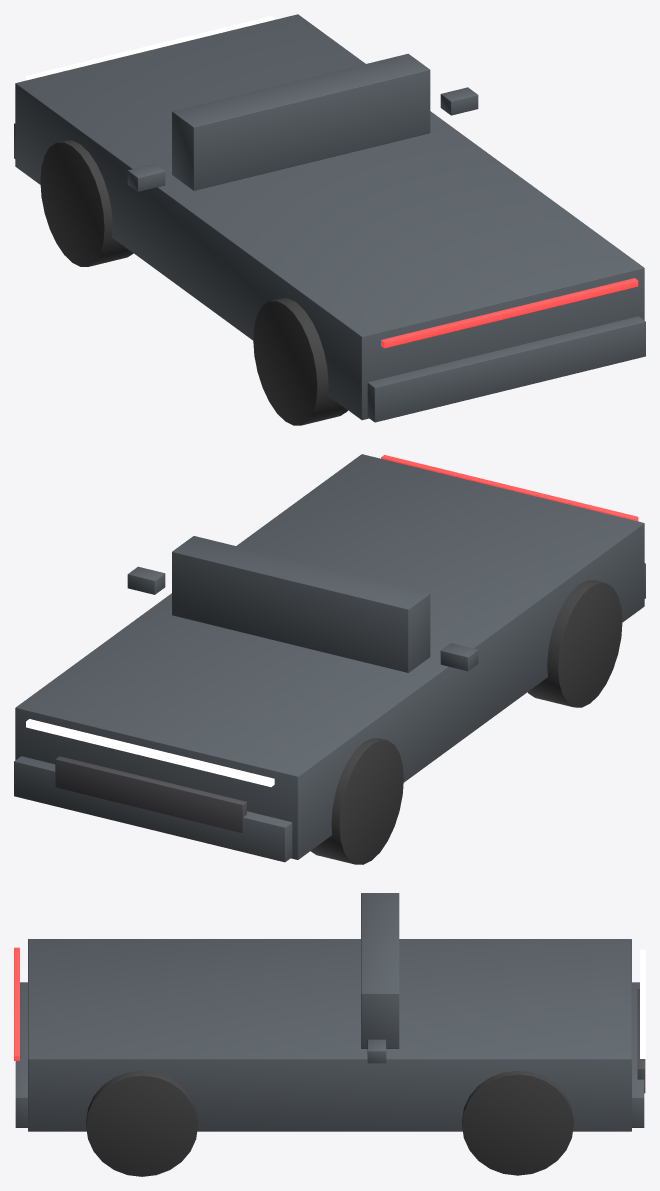
The model's file is vehicle.glb.
3 views of the same model, one above another, from view 1: azimuth 30°, elevation 25°; view 2: azimuth 150°, elevation 25°; view 3: azimuth 270°, elevation 25° (orthographic). The views are drawn at different scales.
Visible parts, largest first — view 1: BODY_Main, BODY_Roof, BODY_Bumpers_Rear, WHEEL_RR_Tire, WHEEL_FR_Tire, LIGHT_Taillights, LIGHT_Headlights, BODY_Mirror_L, BODY_Mirror_R; view 2: BODY_Main, BODY_Roof, WHEEL_RR_Tire, BODY_Bumpers_Front, WHEEL_FR_Tire, BODY_Grille, LIGHT_Headlights, LIGHT_Taillights, BODY_Mirror_L, BODY_Mirror_R; view 3: BODY_Main, WHEEL_RL_Tire, WHEEL_FL_Tire, BODY_Roof, BODY_Bumpers_Rear, BODY_Bumpers_Front, LIGHT_Taillights, LIGHT_Headlights, BODY_Mirror_L, BODY_Grille.
Part boxes in pixels (x1,y1,x2,y2): BODY_Main: (15, 14, 644, 420); BODY_Roof: (172, 53, 430, 190); BODY_Bumpers_Rear: (367, 316, 645, 422); WHEEL_RR_Tire: (253, 298, 347, 425); WHEEL_FR_Tire: (40, 140, 133, 266); LIGHT_Taillights: (381, 278, 638, 348); LIGHT_Headlights: (26, 16, 274, 80); BODY_Mirror_L: (440, 87, 478, 115); BODY_Mirror_R: (127, 163, 165, 191); BODY_Main: (15, 454, 644, 859); BODY_Roof: (172, 536, 430, 672); WHEEL_RR_Tire: (527, 580, 622, 707); BODY_Bumpers_Front: (14, 756, 292, 862); WHEEL_FR_Tire: (310, 738, 403, 864); BODY_Grille: (55, 756, 246, 833); LIGHT_Headlights: (26, 719, 274, 786); LIGHT_Taillights: (381, 455, 638, 521); BODY_Mirror_L: (127, 566, 165, 594); BODY_Mirror_R: (440, 643, 478, 671); BODY_Main: (28, 939, 631, 1131); WHEEL_RL_Tire: (86, 1071, 197, 1176); WHEEL_FL_Tire: (462, 1071, 573, 1175); BODY_Roof: (361, 893, 399, 1048); BODY_Bumpers_Rear: (15, 982, 27, 1127); BODY_Bumpers_Front: (632, 982, 644, 1127); LIGHT_Taillights: (14, 947, 19, 1060); LIGHT_Headlights: (640, 949, 645, 1058); BODY_Mirror_L: (367, 1039, 386, 1063); BODY_Grille: (637, 989, 645, 1093).
Size of the model in its own units: 2.23 by 1.21 by 4.12.
